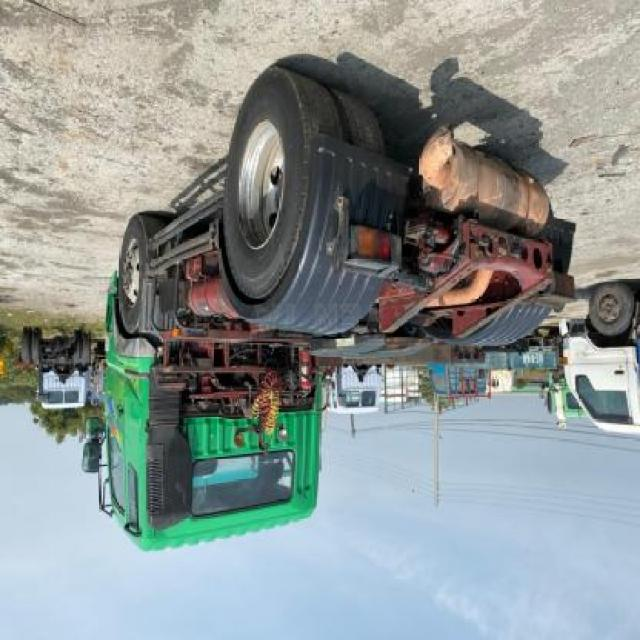truck: (81, 64, 578, 558), (427, 327, 564, 407), (19, 316, 99, 432)
